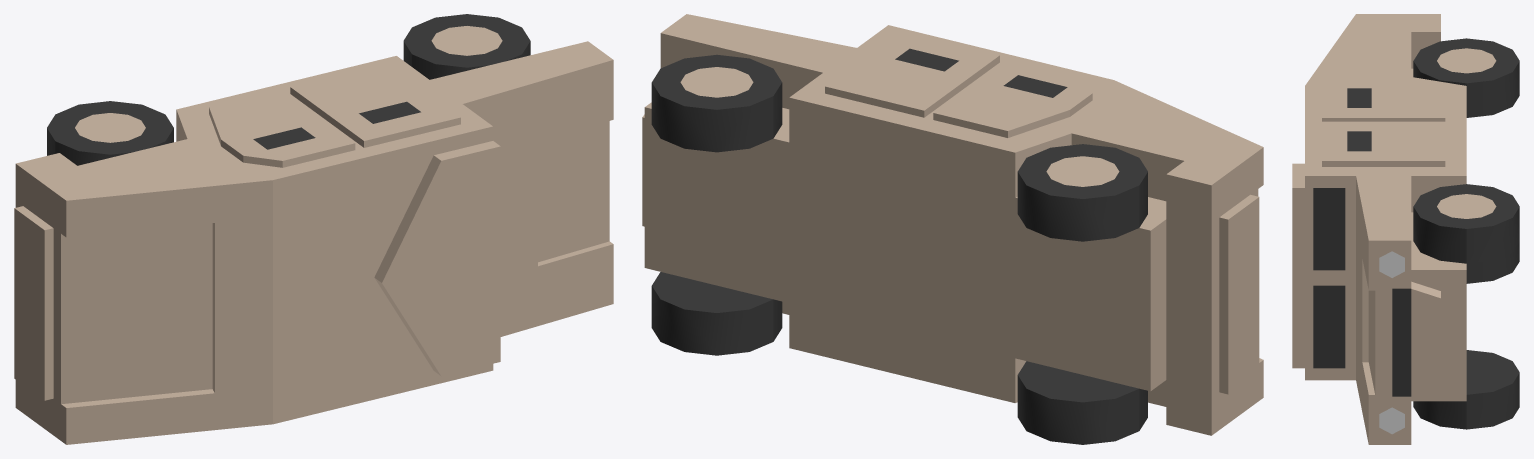
The model's file is humvee.dae.
3 views of the same model, side by side, from view 1: azimuth 30°, elevation 25°; view 2: azimuth 150°, elevation 25°; view 3: azimuth 270°, elevation 25° (orthographic). The views are drawn at different scales.
Parts seen in each view (by area): view 1: coords_ME_ID11_MA_Humvee_part_1, coords_ME_ID17_MA_Humvee_part_1, coords_ME_ID67_MA_Humvee_part_1, coords_ME_ID49_MA_Humvee_part_1, coords_ME_ID37_MA_Humvee_part_2, coords_ME_ID55_MA_Humvee_part_2, coords_ME_ID85_MA_Humvee_part_1, coords_ME_ID135_MA_Humvee_part_1, coords_ME_ID111_MA_Humvee_part_2, coords_ME_ID73_MA_Humvee_part_2; view 2: coords_ME_ID11_MA_Humvee_part_1, coords_ME_ID37_MA_Humvee_part_2, coords_ME_ID55_MA_Humvee_part_2, coords_ME_ID43_MA_Humvee_part_2, coords_ME_ID79_MA_Humvee_part_2, coords_ME_ID17_MA_Humvee_part_1, coords_ME_ID67_MA_Humvee_part_1, coords_ME_ID49_MA_Humvee_part_1, coords_ME_ID135_MA_Humvee_part_1, coords_ME_ID85_MA_Humvee_part_1, coords_ME_ID111_MA_Humvee_part_2, coords_ME_ID73_MA_Humvee_part_2; view 3: coords_ME_ID11_MA_Humvee_part_1, coords_ME_ID37_MA_Humvee_part_2, coords_ME_ID17_MA_Humvee_part_1, coords_ME_ID43_MA_Humvee_part_2, coords_ME_ID55_MA_Humvee_part_2, coords_ME_ID49_MA_Humvee_part_1, coords_ME_ID129_MA_Humvee_part_2, coords_ME_ID117_MA_Humvee_part_2, coords_ME_ID105_MA_Humvee_part_2, coords_ME_ID135_MA_Humvee_part_1, coords_ME_ID85_MA_Humvee_part_1, coords_ME_ID79_MA_Humvee_part_2 (+4 smaller).
Part boxes in pixels (x1,y1,x2,y2): coords_ME_ID11_MA_Humvee_part_1: (15, 41, 613, 444); coords_ME_ID17_MA_Humvee_part_1: (290, 63, 460, 147); coords_ME_ID67_MA_Humvee_part_1: (14, 206, 53, 400); coords_ME_ID49_MA_Humvee_part_1: (209, 89, 355, 167); coords_ME_ID37_MA_Humvee_part_2: (403, 14, 530, 79); coords_ME_ID55_MA_Humvee_part_2: (47, 101, 173, 165); coords_ME_ID85_MA_Humvee_part_1: (431, 26, 502, 55); coords_ME_ID135_MA_Humvee_part_1: (75, 113, 145, 142); coords_ME_ID111_MA_Humvee_part_2: (359, 101, 420, 123); coords_ME_ID73_MA_Humvee_part_2: (253, 127, 315, 149); coords_ME_ID11_MA_Humvee_part_1: (642, 14, 1263, 435); coords_ME_ID37_MA_Humvee_part_2: (651, 54, 782, 152); coords_ME_ID55_MA_Humvee_part_2: (1017, 144, 1147, 241); coords_ME_ID43_MA_Humvee_part_2: (651, 272, 782, 355); coords_ME_ID79_MA_Humvee_part_2: (1017, 361, 1147, 444); coords_ME_ID17_MA_Humvee_part_1: (825, 31, 999, 117); coords_ME_ID67_MA_Humvee_part_1: (1219, 194, 1259, 394); coords_ME_ID49_MA_Humvee_part_1: (933, 57, 1092, 137); coords_ME_ID135_MA_Humvee_part_1: (1046, 156, 1119, 186); coords_ME_ID85_MA_Humvee_part_1: (680, 67, 753, 97); coords_ME_ID111_MA_Humvee_part_2: (895, 48, 958, 71); coords_ME_ID73_MA_Humvee_part_2: (1003, 75, 1067, 97); coords_ME_ID11_MA_Humvee_part_1: (1292, 14, 1466, 444); coords_ME_ID37_MA_Humvee_part_2: (1413, 184, 1519, 263); coords_ME_ID17_MA_Humvee_part_1: (1322, 121, 1445, 166); coords_ME_ID43_MA_Humvee_part_2: (1413, 350, 1519, 429); coords_ME_ID55_MA_Humvee_part_2: (1413, 38, 1519, 117); coords_ME_ID49_MA_Humvee_part_1: (1322, 78, 1445, 121); coords_ME_ID129_MA_Humvee_part_2: (1313, 285, 1345, 368); coords_ME_ID117_MA_Humvee_part_2: (1313, 188, 1345, 270); coords_ME_ID105_MA_Humvee_part_2: (1392, 288, 1411, 396); coords_ME_ID135_MA_Humvee_part_1: (1437, 48, 1496, 73); coords_ME_ID85_MA_Humvee_part_1: (1437, 194, 1496, 218); coords_ME_ID79_MA_Humvee_part_2: (1466, 242, 1519, 283).
Size of the model in its own units: 65.64 by 28.72 by 27.44.
